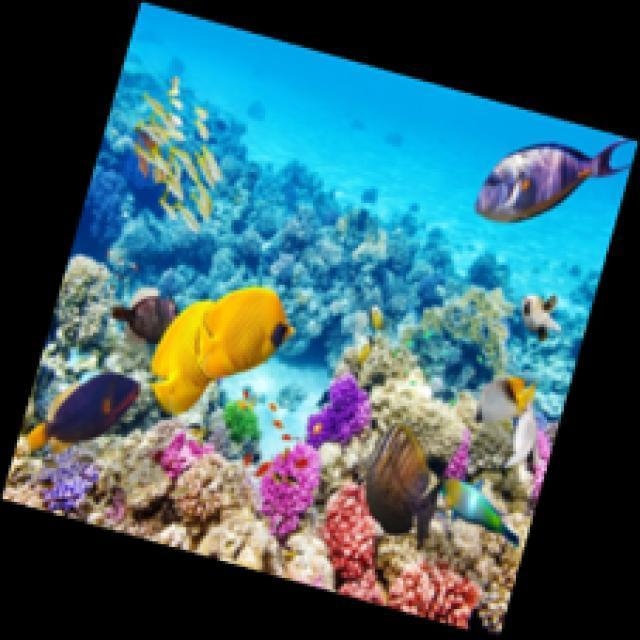Bleached: (1, 416, 535, 640), (338, 341, 479, 418)
Healthy: (326, 483, 384, 606), (386, 562, 483, 629), (261, 443, 321, 538), (307, 375, 373, 449), (41, 452, 98, 513), (161, 436, 215, 476), (530, 429, 554, 506), (222, 401, 262, 443), (446, 430, 471, 480)
